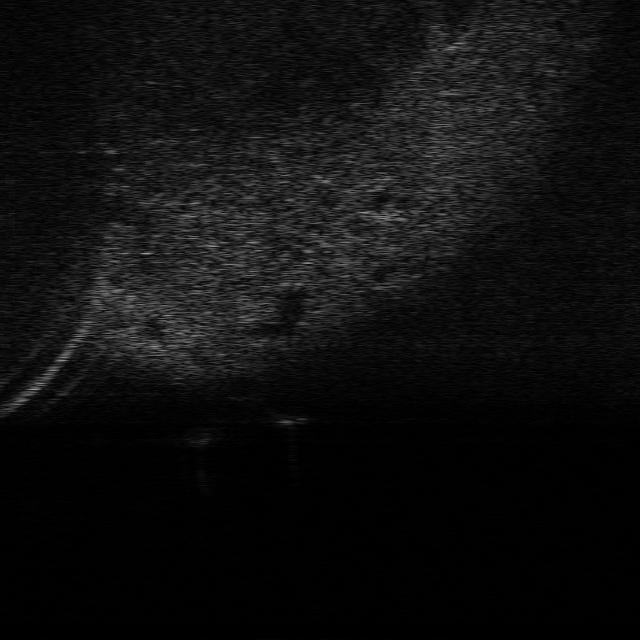cube: (266, 409, 308, 429)
cylinder: (184, 424, 215, 451)
